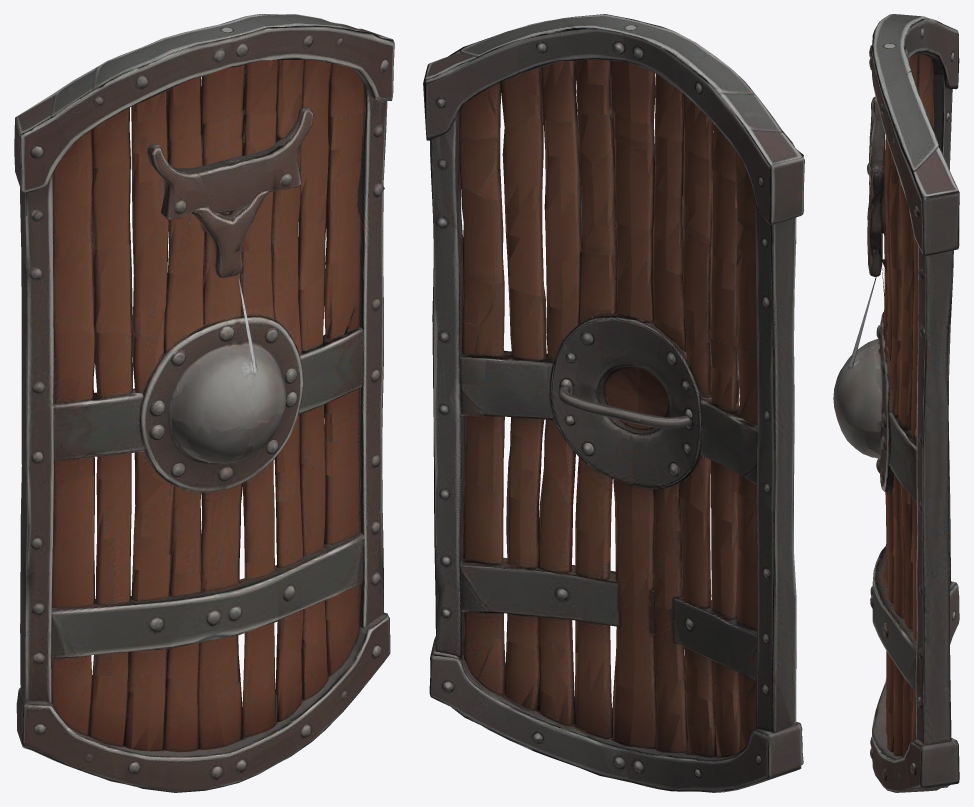
Rendered from muro-escudo.glb.
The picture shows the model from 3 angles, left to right: view 1: azimuth 30°, elevation 25°; view 2: azimuth 150°, elevation 25°; view 3: azimuth 270°, elevation 25°; orthographic projection. The views are drawn at different scales.
Parts seen in each view (by area): view 1: mesh_node; view 2: mesh_node; view 3: mesh_node.
Boxes of the visible parts, left/top/right/bottom form: mesh_node: left=14, top=14, right=394, bottom=792; mesh_node: left=423, top=14, right=804, bottom=792; mesh_node: left=833, top=14, right=959, bottom=792.
Bounding box in the file's own units: 0.5254 × 1 × 0.1587.
1 material, 1 textured.
